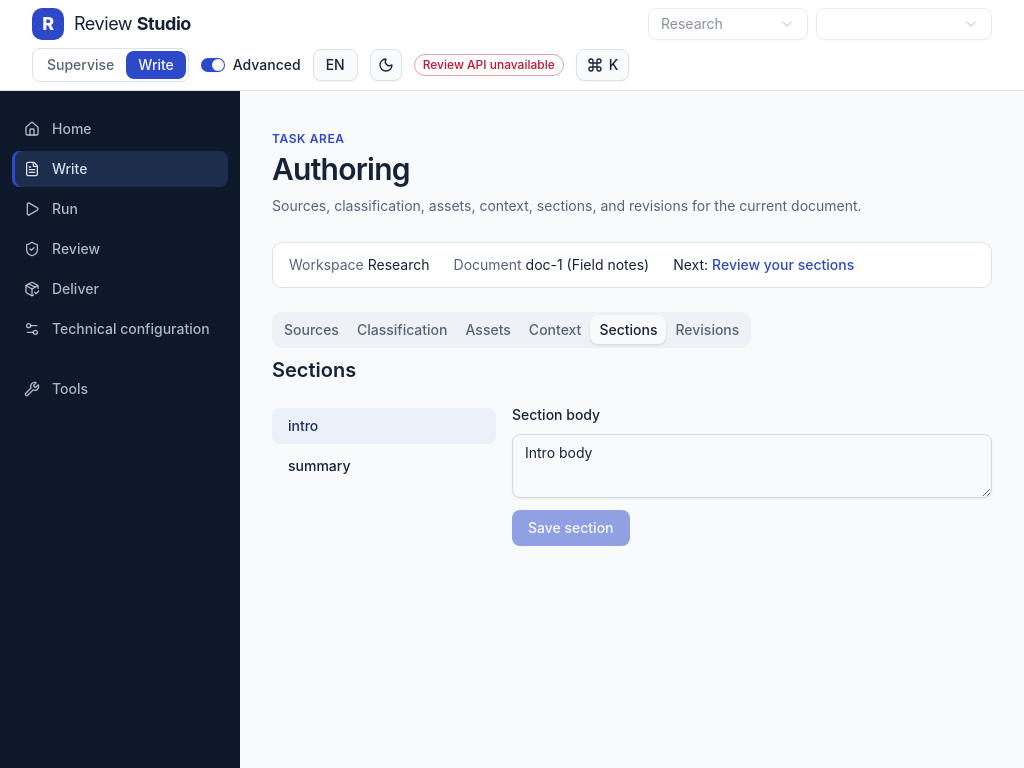
Test: section editor › never retries a failed save against a different section
Type " edited" into the text box labelled "Section body". click: (752, 466)
box: [512,434,992,498]
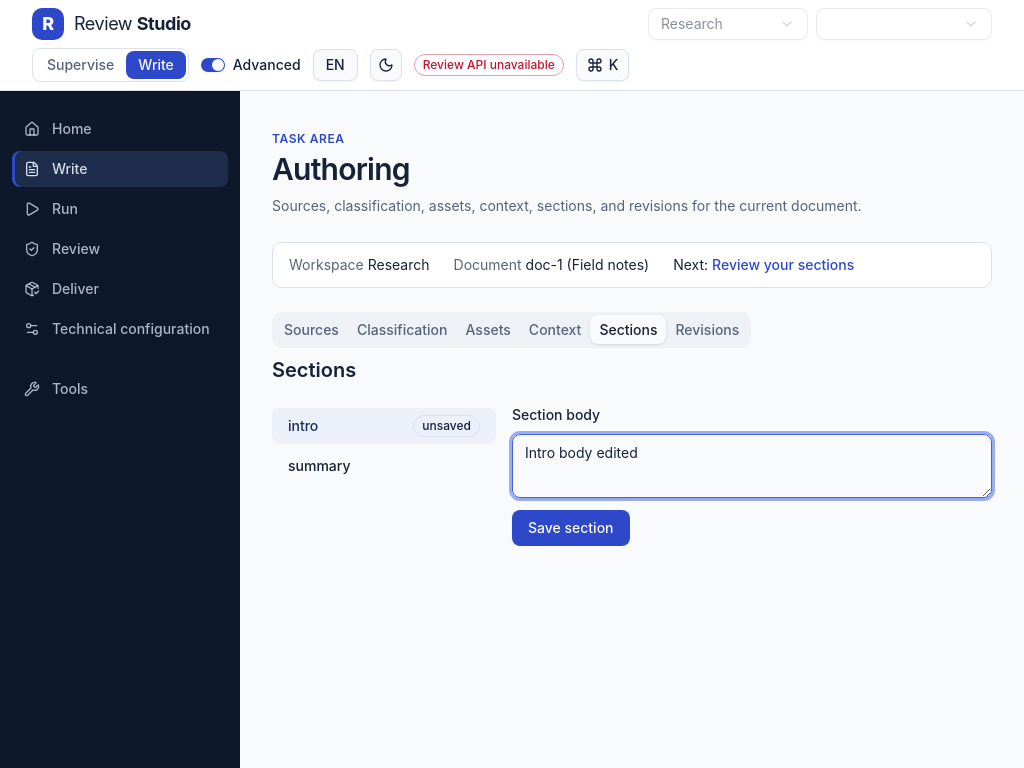
Click the button "Save section". click: (571, 528)
box: [512,510,630,546]
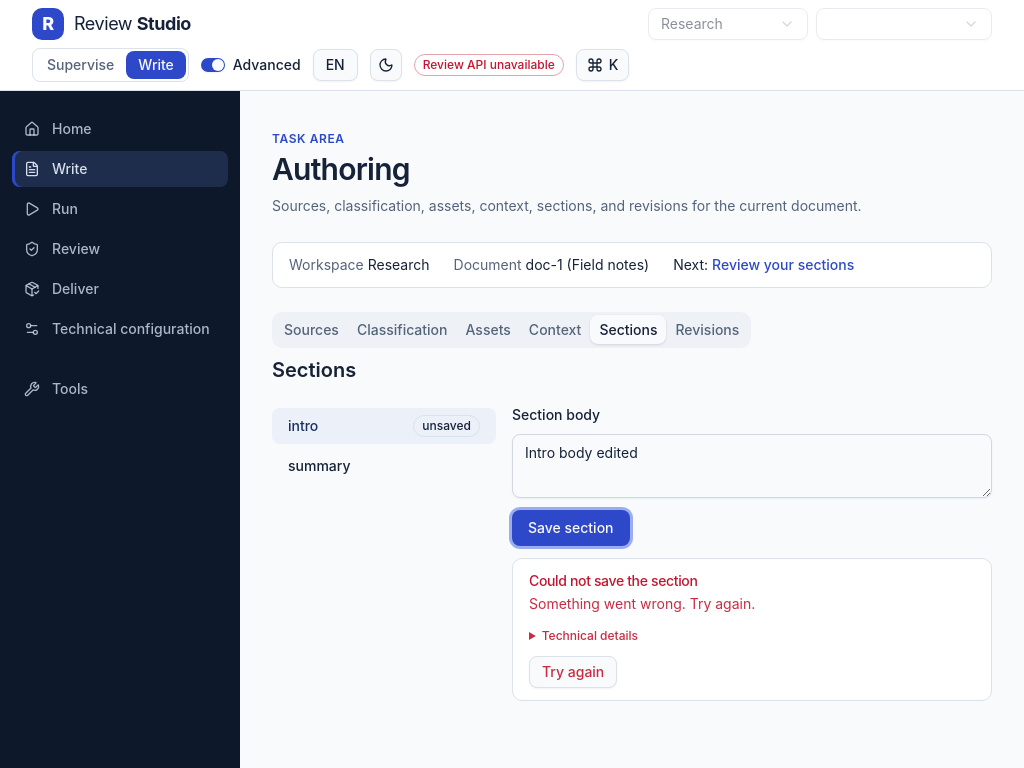
Now the text "Could not save the section" is shown, box [529,572,698,589]
Click the button "summary". click: (384, 466)
box: [272,448,496,484]
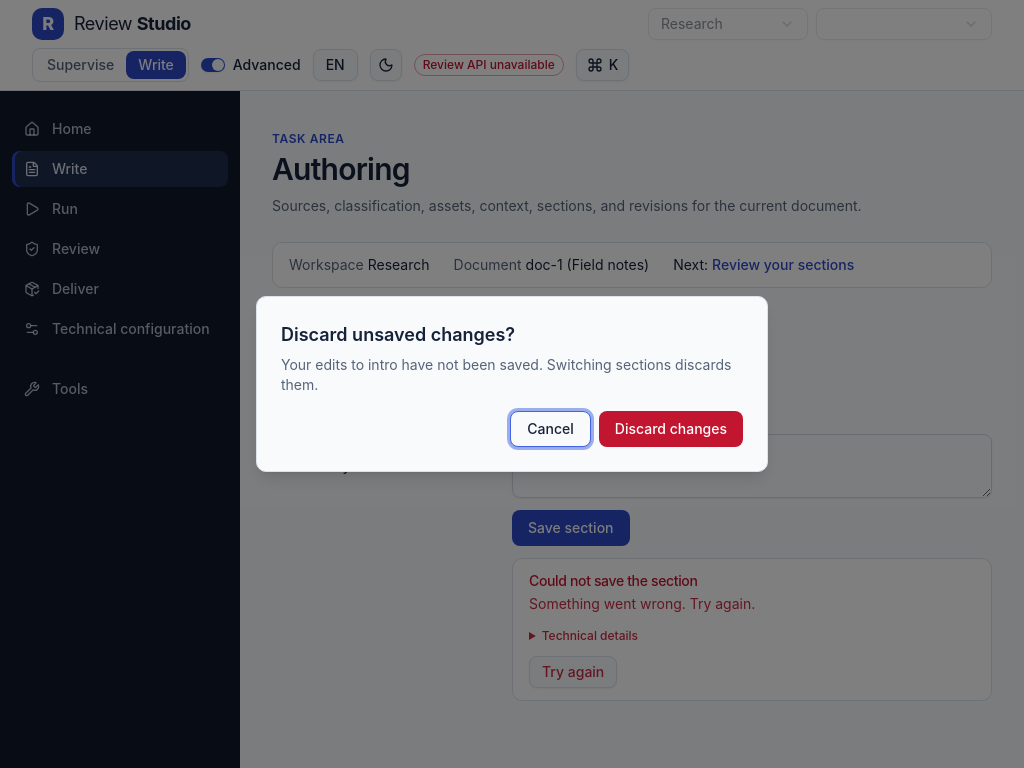
Click the button "Discard changes". click: (671, 429)
box: [599,411,743,447]
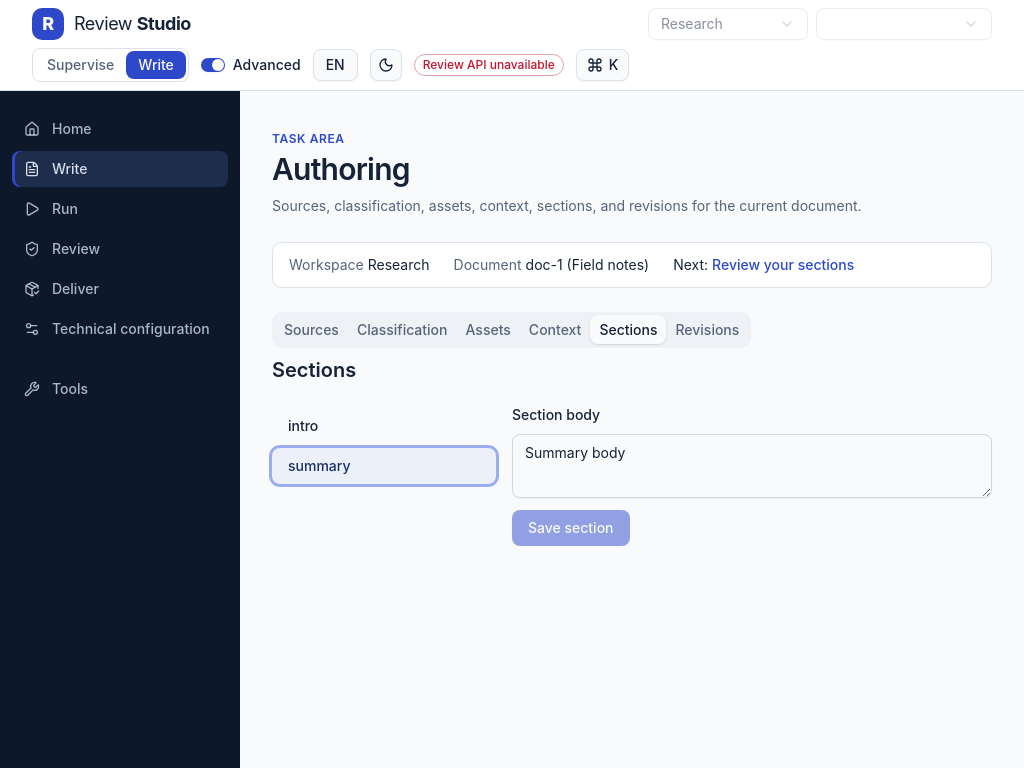
Now the text box labelled "Section body" holds "Summary body", box [512,434,992,498]
